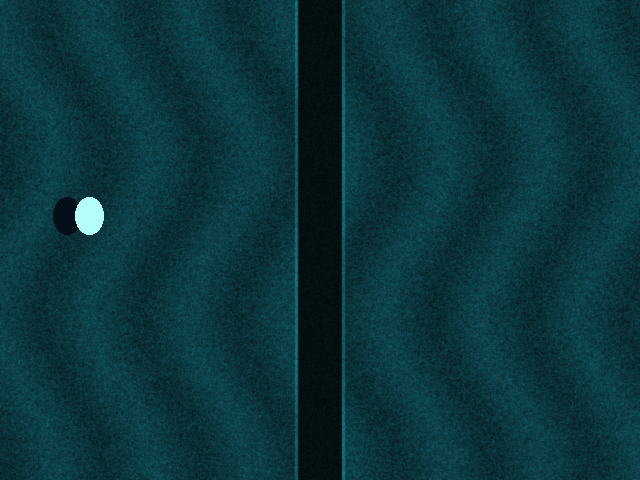Glass Debris: (75, 197, 103, 234)
